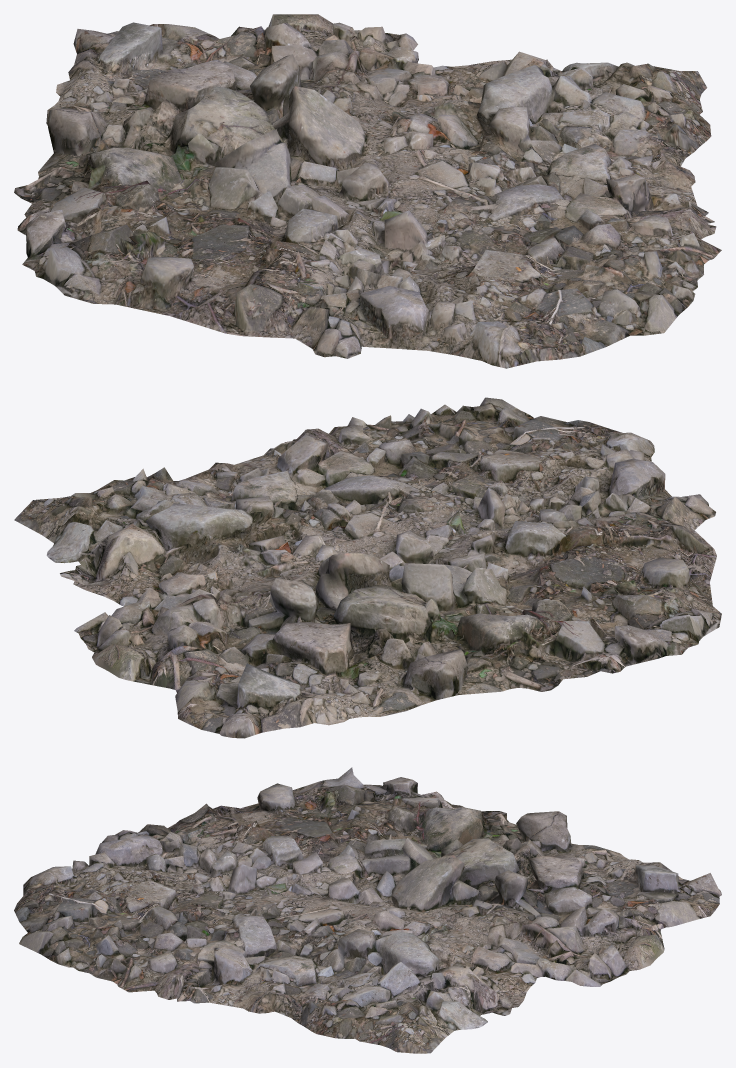
File: sm_GroundRocks_01_02.fbx
The picture shows the model from 3 angles, top to bottom: view 1: azimuth 30°, elevation 25°; view 2: azimuth 150°, elevation 25°; view 3: azimuth 270°, elevation 25°; orthographic projection. The views are drawn at different scales.
Visible parts, largest first — view 1: sm_GroundRocks_01_02_LOD0; view 2: sm_GroundRocks_01_02_LOD0; view 3: sm_GroundRocks_01_02_LOD0.
Boxes of the visible parts, x1,y1,x2,y2 form: sm_GroundRocks_01_02_LOD0: (14,14,721,368); sm_GroundRocks_01_02_LOD0: (14,397,721,738); sm_GroundRocks_01_02_LOD0: (14,767,721,1053).
Size of the model in its own units: 194 by 215 by 21.46.
